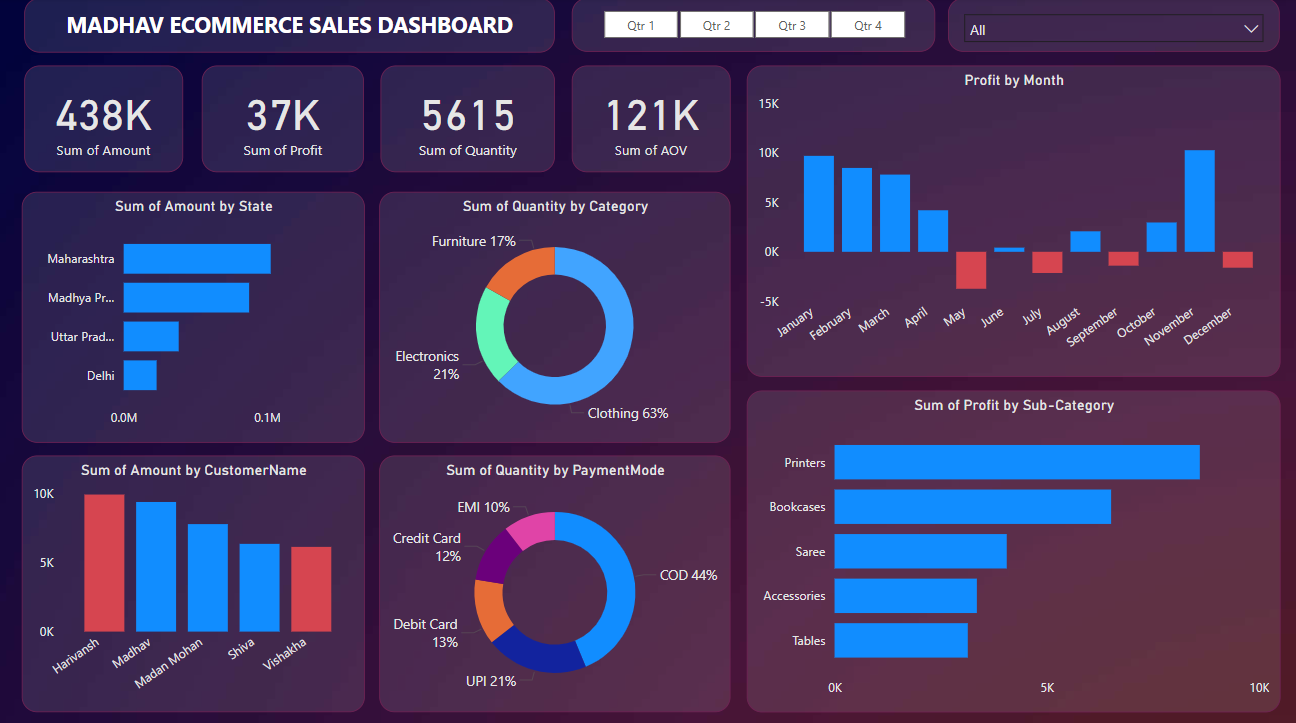

Layout of this report page (visuals, bound fields, positions):
{"tool":"powerbi","page":{"name":"Page 1","canvas":[1280,720],"ordinal":0},"visuals":[{"type":"textbox","box":[25.6,0,521,53.8],"z":0},{"type":"columnChart","title":"Profit by Month","fields":{"Category":["Orders.Order Date.Variation.Date Hierarchy.Month"],"Y":["Details.Profit"]},"box":[735,66,523.7,305.6],"z":1000},{"type":"barChart","fields":{"Category":["Details.Sub-Category"],"Y":["Details.Profit"]},"box":[735,385,523.7,316.4],"z":2000},{"type":"donutChart","fields":{"Category":["Details.Category"],"Y":["Details.Quantity"]},"box":[374.3,189.8,344.6,246.4],"z":3000},{"type":"donutChart","fields":{"Category":["Details.PaymentMode"],"Y":["Details.Quantity"]},"box":[374.3,449.6,344.6,251.7],"z":4000},{"type":"card","fields":{"Values":["Details.AOV"]},"box":[562.7,66,156.2,105],"z":5000},{"type":"card","fields":{"Values":["Details.Quantity"]},"box":[375.6,66,171,105],"z":6000},{"type":"card","fields":{"Values":["Details.Profit"]},"box":[200.6,66,158.9,105],"z":7000},{"type":"card","fields":{"Values":["Details.Amount"]},"box":[25.6,66,156.2,105],"z":8000},{"type":"barChart","fields":{"Category":["Orders.State"],"Y":["Details.Amount"]},"box":[22.9,189.8,336.6,246.4],"z":9000},{"type":"columnChart","fields":{"Category":["Orders.CustomerName"],"Y":["Details.Amount"]},"box":[22.9,449.6,336.6,251.7],"z":9001},{"type":"slicer","fields":{"Values":["Orders.State"]},"box":[932.9,0,325.8,52.5],"z":9002},{"type":"slicer","fields":{"Values":["Orders.Order Date.Variation.Date Hierarchy.Quarter"]},"box":[562.7,0,356.8,52.5],"z":9003}]}

Visuals, with their boxes in screenshot pixels (x1, y1, x2, y2), scaled from the page's 1280x720 canvas onto the 1296x723 screenshot:
textbox: (26,0,553,54)
"Profit by Month" columnChart: (744,66,1274,373)
barChart - Details.Sub-Category x Details.Profit: (744,387,1274,704)
donutChart - Details.Category x Details.Quantity: (379,191,728,438)
donutChart - Details.PaymentMode x Details.Quantity: (379,451,728,704)
card - Details.AOV: (570,66,728,172)
card - Details.Quantity: (380,66,553,172)
card - Details.Profit: (203,66,364,172)
card - Details.Amount: (26,66,184,172)
barChart - Orders.State x Details.Amount: (23,191,364,438)
columnChart - Orders.CustomerName x Details.Amount: (23,451,364,704)
slicer - Orders.State: (945,0,1274,53)
slicer - Orders.Order Date.Variation.Date Hierarchy.Quarter: (570,0,931,53)
